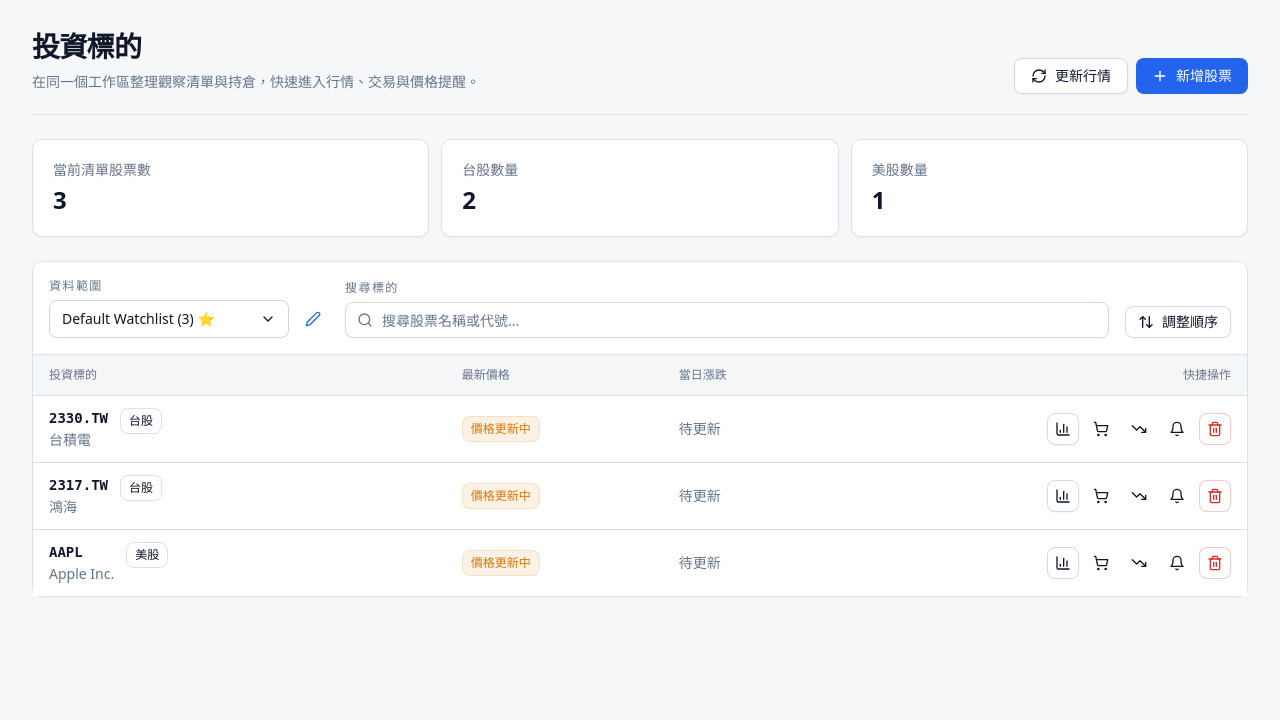
Test case: StockManagementPage - 狀態管理優化測試 › 持倉模式應直接使用 portfolio API 的 stock_id 與 current_price
The image size is (1280, 720).
Click the button "Default Watchlist (3) ⭐" at [169, 319], box [49,300,289,338]
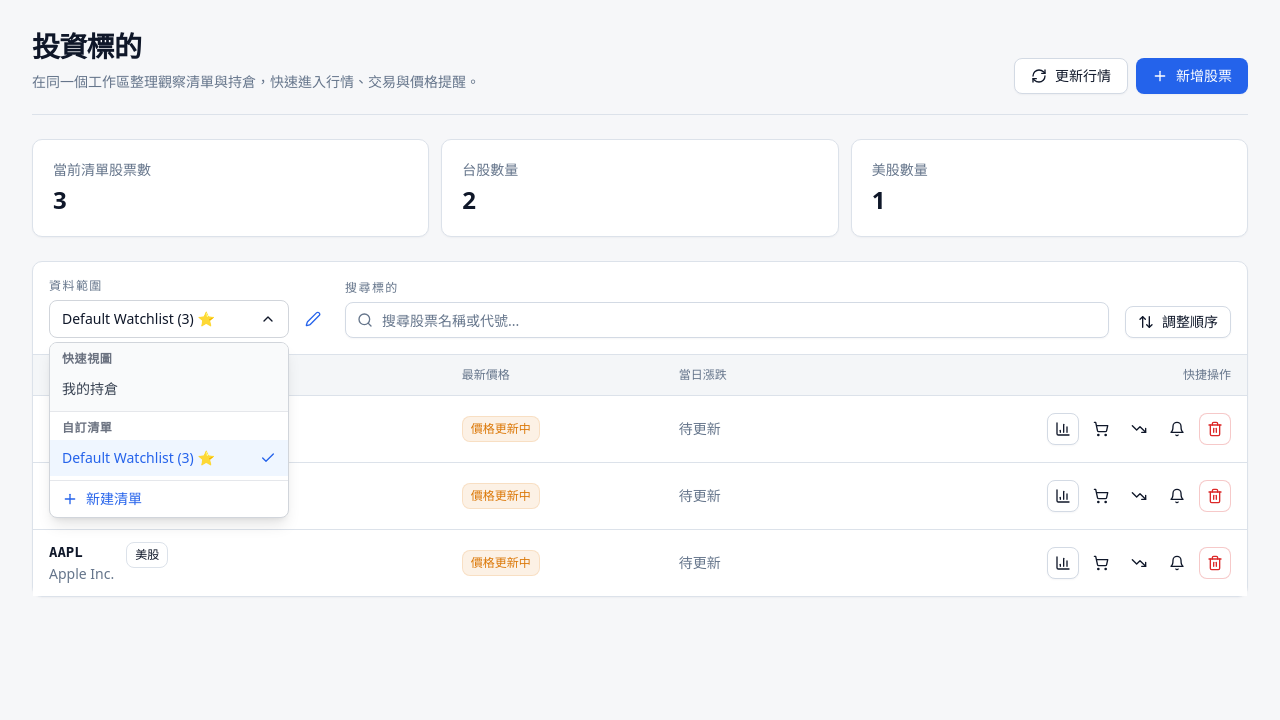
Click the button "我的持倉" at [169, 389], box [50,371,288,407]
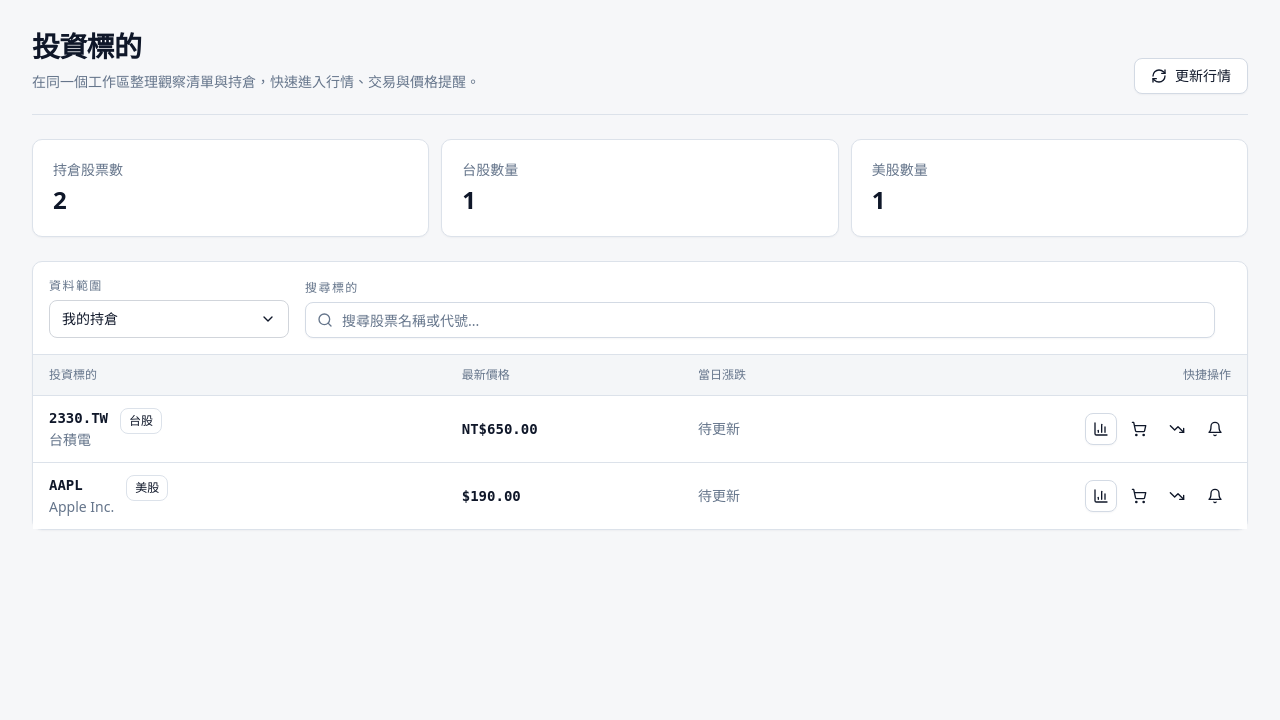
Check: the text "NT$650.00" is shown, box [462,420,538,436]
Check: the text "$190.00" is shown, box [462,488,521,504]
Check: the text "待更新" is shown 2 times, box [698,418,740,438]; [698,486,740,504]
